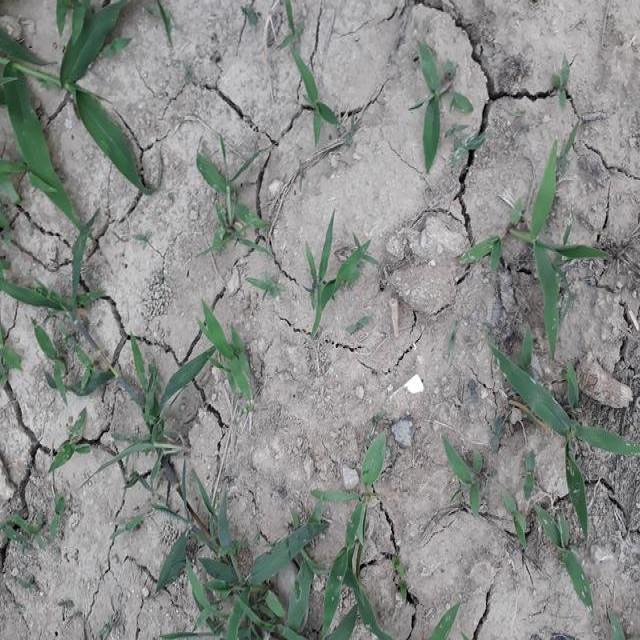weed: (0, 5, 139, 191), (164, 517, 370, 640), (488, 347, 627, 513), (10, 200, 105, 336), (538, 163, 598, 334), (110, 353, 205, 448), (194, 150, 258, 258), (301, 232, 369, 319), (407, 51, 449, 165), (288, 46, 338, 138), (203, 305, 252, 396)
